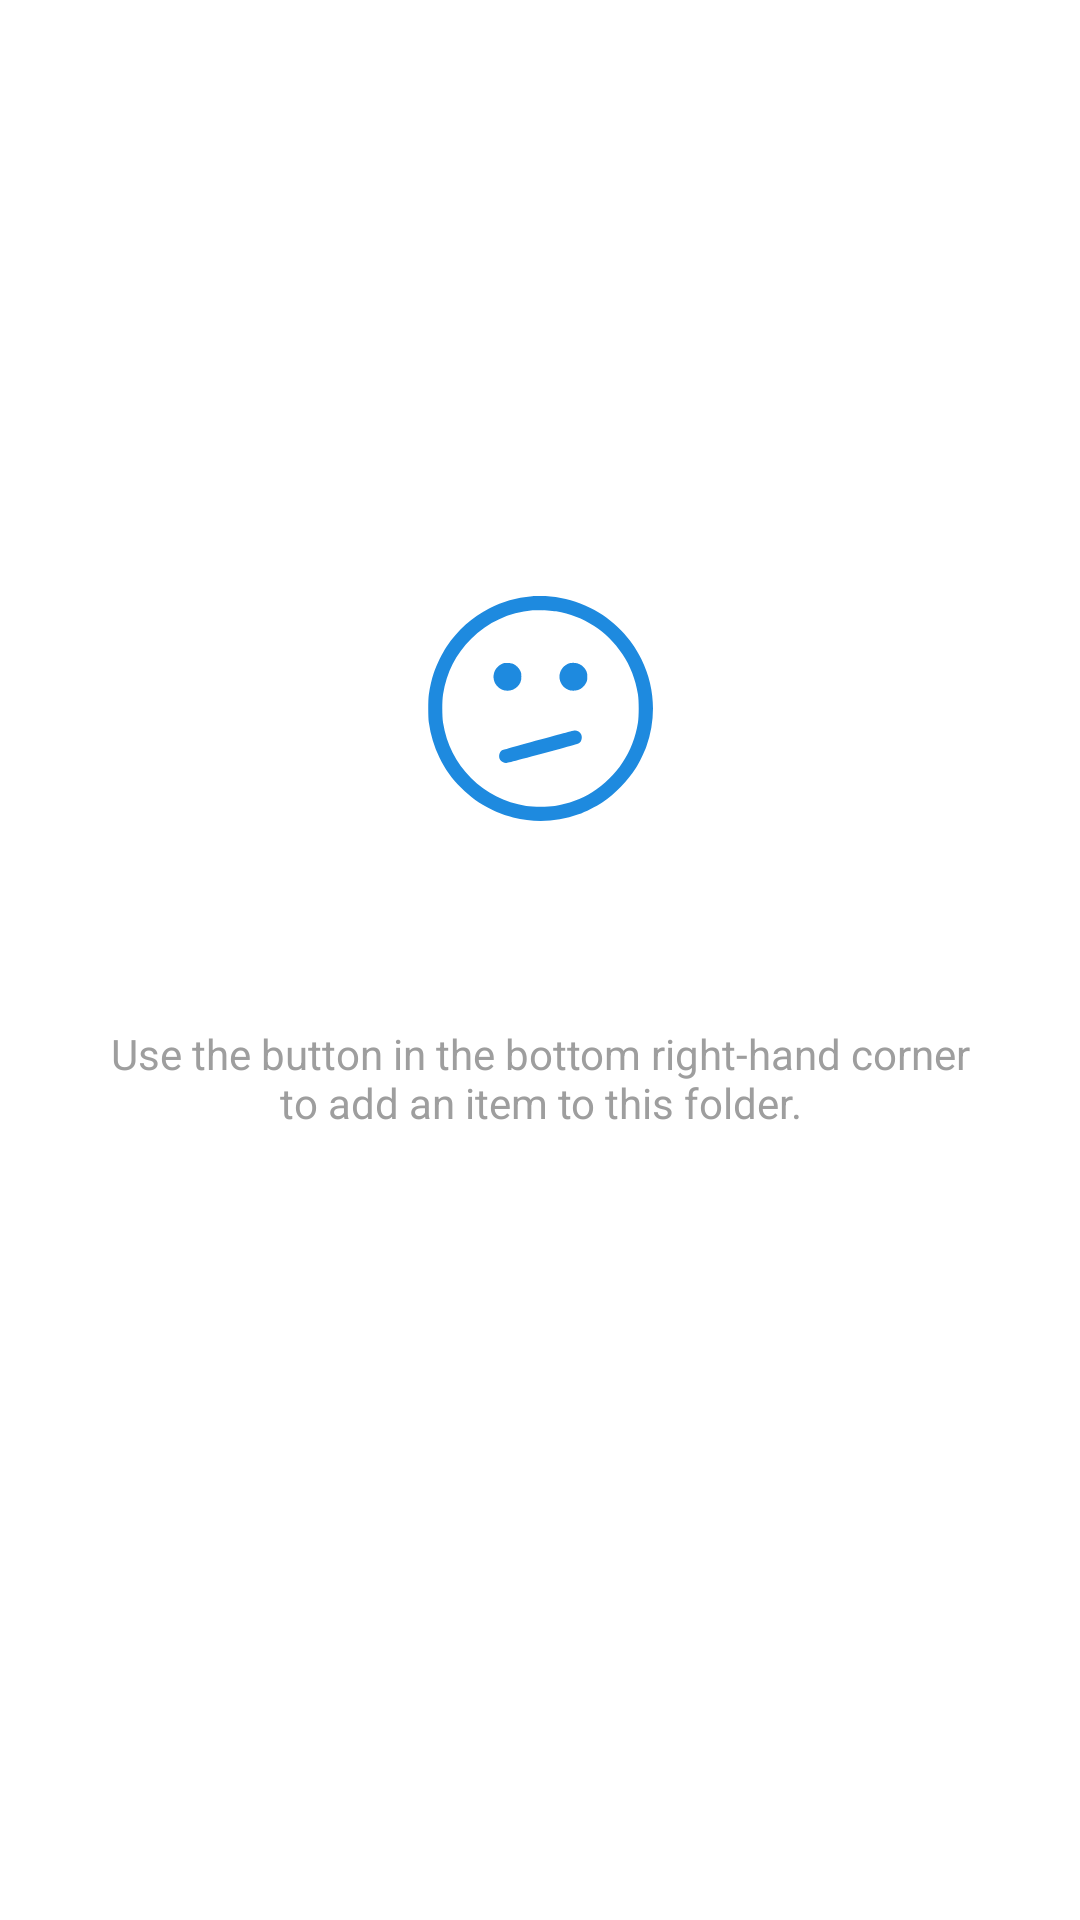

Named icons in this screenshot (1080×1920) and their bounding boxes, [left=x1, top=y1, right=x2, bottom=y2]:
bored: [left=428, top=596, right=653, bottom=821]
